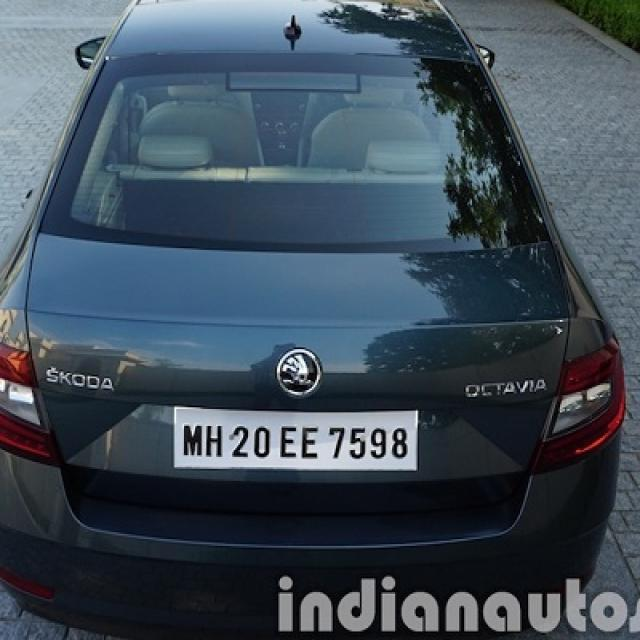Plate: (172, 402, 417, 472)
